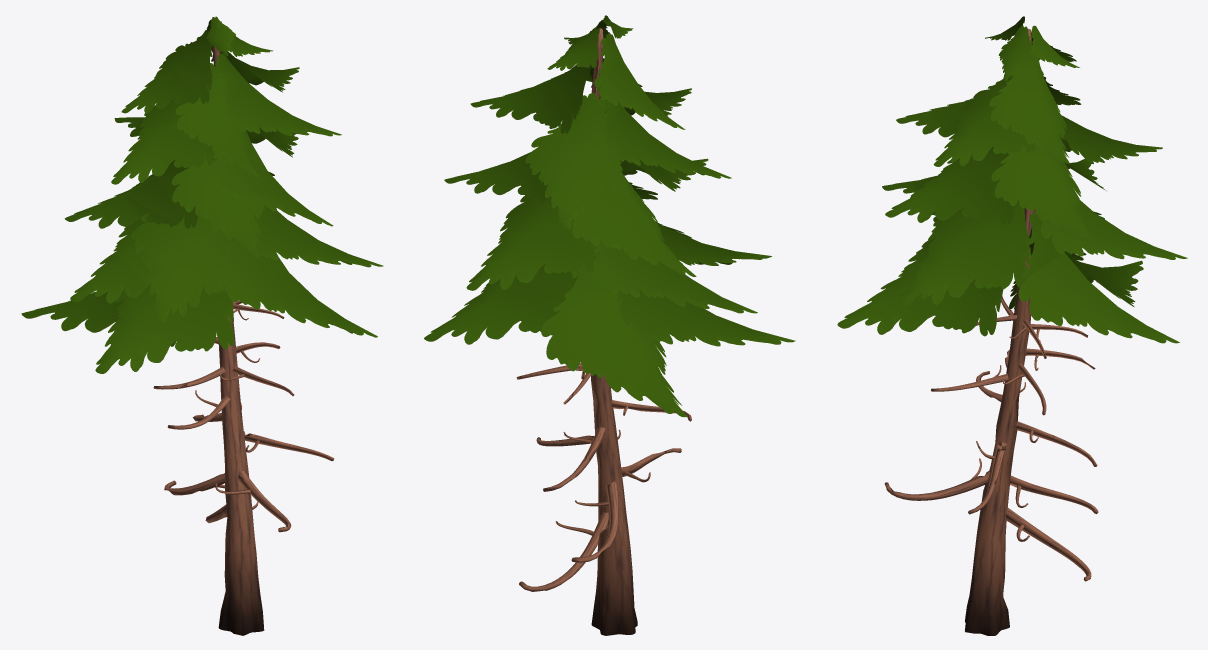
File: Pine_3.glb
3 views of the same model, side by side, from view 1: azimuth 30°, elevation 25°; view 2: azimuth 150°, elevation 25°; view 3: azimuth 270°, elevation 25° (orthographic). The views are drawn at different scales.
Parts seen in each view (by area): view 1: Pine_3; view 2: Pine_3; view 3: Pine_3.
Boxes of the visible parts, x1=… form: Pine_3: x1=21, y1=16, x2=383, y2=635; Pine_3: x1=424, y1=15, x2=795, y2=635; Pine_3: x1=837, y1=16, x2=1187, y2=635.
Size of the model in its own units: 3.61 by 7.39 by 4.
Materials: 2 (2 with a texture image).
